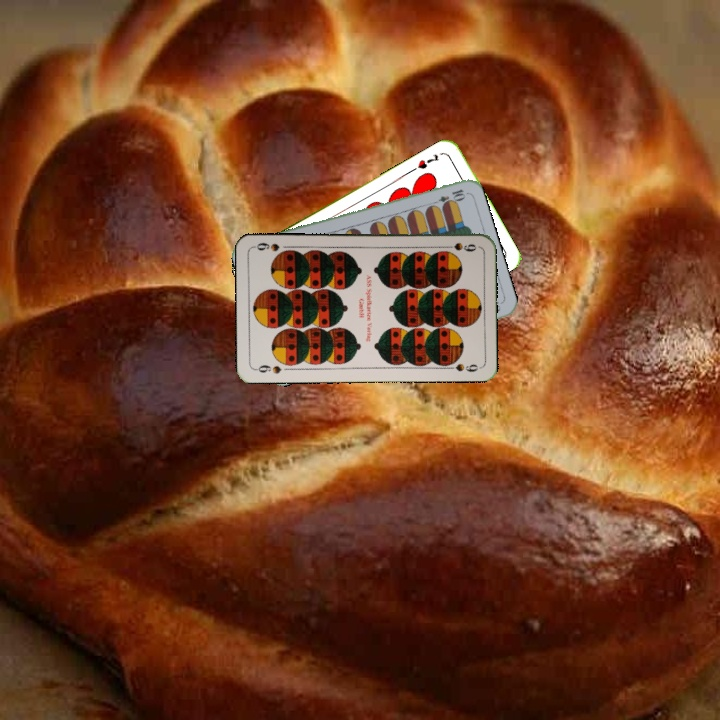E10: (428, 185, 468, 208)
H7: (413, 150, 441, 172)
S9: (439, 239, 479, 254), (251, 361, 283, 376)
